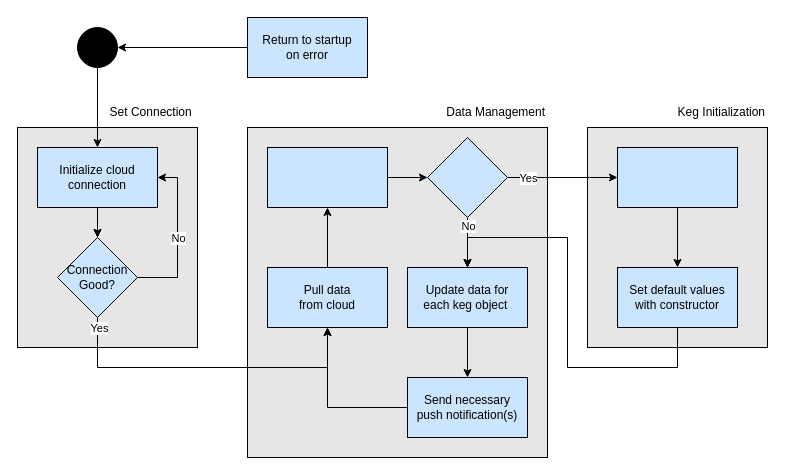
The diagram is 785 pixels wide and 475 high, and some of its shapes have lost their labels. Here are the shapes that lost their labels. From the top down, the box of each, then its label:
(266, 146, 388, 208): Check for unrecognized keg
(426, 136, 508, 218): New keg(s)?
(616, 146, 738, 208): Initialize new keg object(s)
